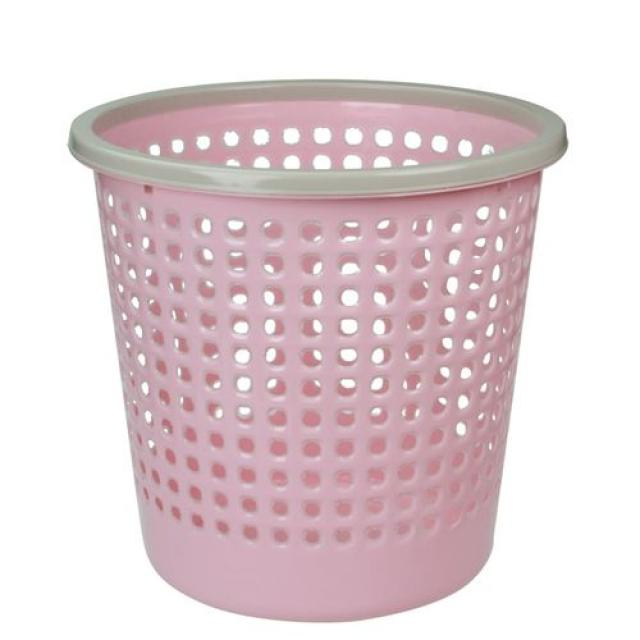dustbin: (59, 73, 571, 628)
